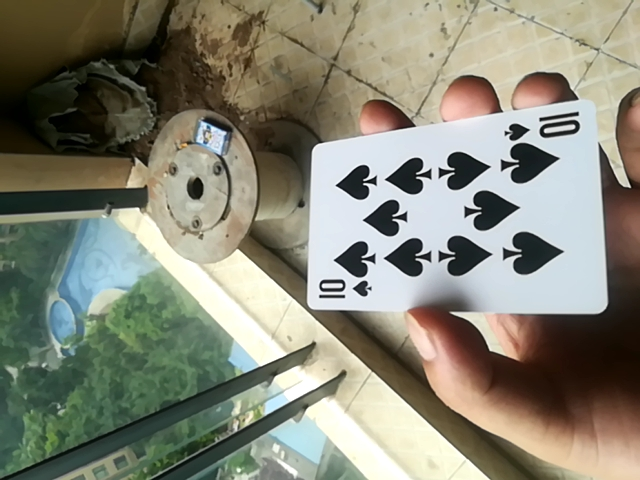ht 10: (297, 93, 609, 316)
